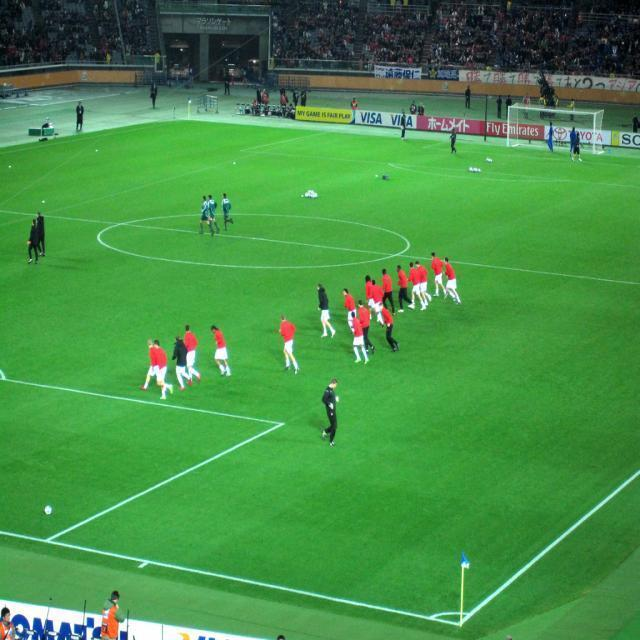ball: (44, 506, 52, 515)
